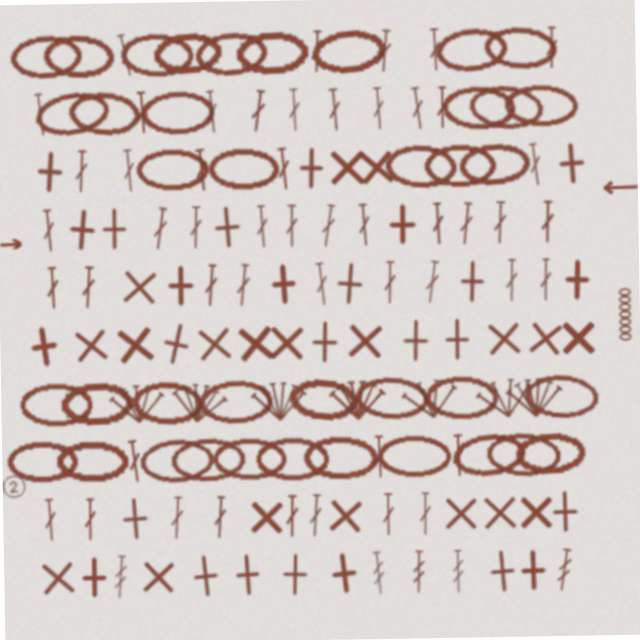chain: (36, 83, 115, 137), (471, 85, 549, 135), (448, 433, 525, 483), (314, 27, 391, 76), (285, 375, 360, 425), (522, 376, 599, 424), (70, 85, 145, 134), (198, 28, 274, 76), (438, 28, 513, 76), (352, 376, 428, 423), (483, 434, 559, 481), (487, 28, 562, 75), (460, 144, 535, 191), (137, 435, 213, 481), (386, 144, 460, 191), (46, 29, 121, 75), (129, 377, 204, 423), (156, 28, 229, 75), (507, 87, 583, 132), (300, 435, 376, 480), (13, 29, 87, 75), (124, 29, 198, 75), (445, 87, 519, 133), (168, 435, 243, 480), (197, 378, 273, 422), (239, 29, 313, 74), (58, 377, 132, 422), (423, 377, 497, 422), (253, 436, 328, 480), (375, 436, 450, 480), (512, 435, 585, 480), (144, 88, 218, 132), (210, 436, 284, 480), (210, 146, 283, 190), (18, 378, 91, 422), (53, 436, 126, 480), (426, 146, 500, 189), (138, 146, 211, 189), (4, 436, 77, 479)
double: (119, 30, 141, 74), (251, 88, 272, 132), (411, 88, 431, 132), (152, 204, 172, 248), (320, 204, 340, 248), (423, 262, 443, 306), (313, 262, 332, 306), (123, 436, 142, 480), (380, 30, 398, 74), (35, 88, 53, 132), (329, 88, 347, 132), (195, 146, 213, 190), (529, 146, 547, 190), (459, 204, 477, 248), (235, 262, 253, 306), (207, 88, 224, 132), (278, 146, 295, 190), (42, 204, 59, 248), (123, 146, 140, 189), (493, 204, 510, 247), (203, 262, 220, 305), (304, 494, 321, 537), (138, 88, 154, 131), (290, 88, 306, 131), (374, 88, 390, 131), (76, 146, 92, 189), (256, 204, 272, 247), (358, 204, 374, 247), (541, 204, 557, 247), (81, 262, 97, 305), (39, 494, 55, 537), (166, 494, 182, 537), (209, 494, 225, 537), (314, 30, 329, 73), (432, 30, 447, 73), (190, 204, 205, 247), (286, 204, 301, 247), (432, 204, 447, 247), (46, 262, 61, 305), (383, 262, 398, 305), (505, 262, 520, 305), (539, 262, 554, 305), (370, 436, 385, 479), (449, 436, 464, 479), (549, 30, 563, 73), (439, 88, 453, 131), (80, 494, 94, 537), (282, 494, 296, 537), (378, 494, 392, 537), (415, 494, 429, 537)
enseble_chain: (618, 293, 632, 347)
fan: (472, 374, 535, 426), (398, 374, 460, 425), (167, 375, 229, 425), (106, 376, 166, 423), (504, 377, 563, 423), (249, 377, 307, 422), (328, 378, 385, 422)
noise: (0, 467, 26, 496), (603, 185, 640, 199), (0, 234, 25, 244)
single: (150, 316, 201, 367), (20, 318, 68, 366), (521, 318, 569, 366), (67, 318, 114, 365), (111, 318, 158, 365), (316, 550, 363, 597), (356, 145, 402, 191), (61, 203, 107, 249), (117, 261, 163, 307), (327, 261, 373, 307), (191, 319, 237, 365), (232, 319, 278, 365), (319, 493, 365, 539), (178, 551, 224, 597), (475, 551, 521, 597), (30, 145, 75, 190), (552, 145, 597, 190), (206, 203, 251, 248), (262, 261, 307, 306), (342, 319, 387, 364), (481, 319, 526, 364), (109, 493, 154, 538), (31, 551, 76, 596), (221, 551, 266, 596), (292, 146, 336, 190), (451, 262, 495, 306), (556, 262, 600, 306), (264, 320, 308, 364), (302, 320, 346, 364), (393, 320, 437, 364), (241, 494, 285, 538), (132, 552, 176, 596), (269, 552, 313, 596), (328, 146, 371, 189), (94, 204, 137, 247), (382, 204, 425, 247), (160, 262, 203, 305), (435, 320, 478, 363), (556, 320, 599, 363), (436, 494, 479, 537), (475, 494, 518, 537), (511, 494, 554, 537), (540, 494, 583, 537), (68, 552, 111, 595), (507, 552, 550, 595)
treble: (550, 552, 570, 596), (366, 552, 383, 596), (108, 552, 125, 595), (407, 552, 422, 595), (447, 552, 461, 595)
